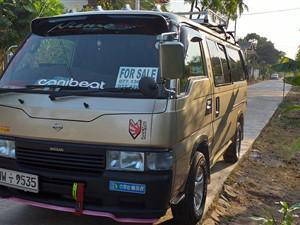Van: (1, 6, 252, 211)
